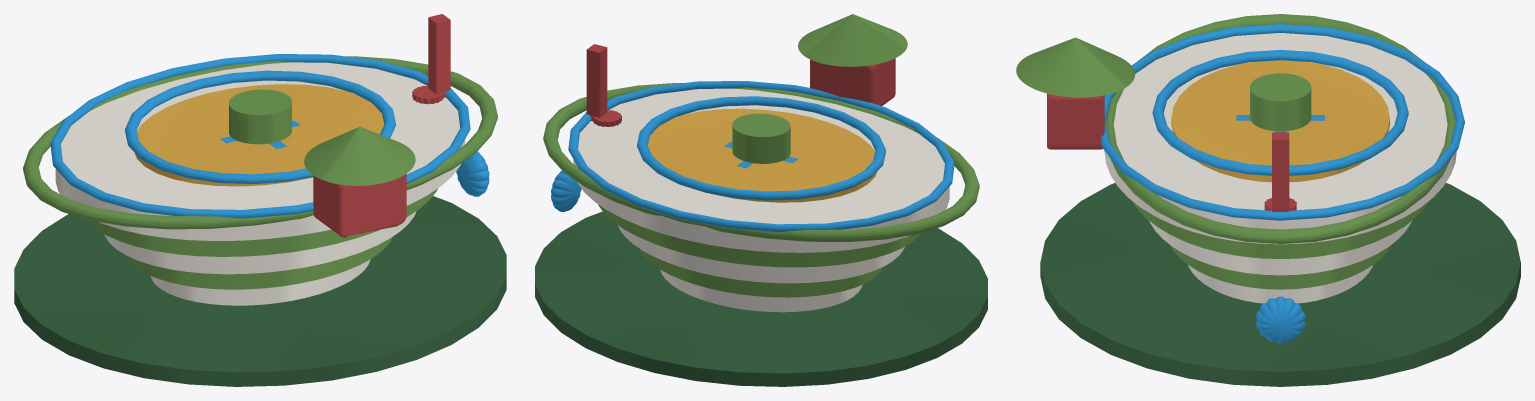
The model's file is 0261_世界古代文明图鉴_大浴池.glb.
3 views of the same model, side by side, from view 1: azimuth 30°, elevation 25°; view 2: azimuth 150°, elevation 25°; view 3: azimuth 270°, elevation 25° (orthographic). The views are drawn at different scales.
Visible parts, largest first — view 1: card_0261; view 2: card_0261; view 3: card_0261.
Part boxes in pixels (x1=…): card_0261: x1=14, y1=14, x2=506, y2=386; card_0261: x1=535, y1=14, x2=987, y2=386; card_0261: x1=1016, y1=14, x2=1520, y2=386.
Size of the model in its own units: 2 by 1 by 1.91.
